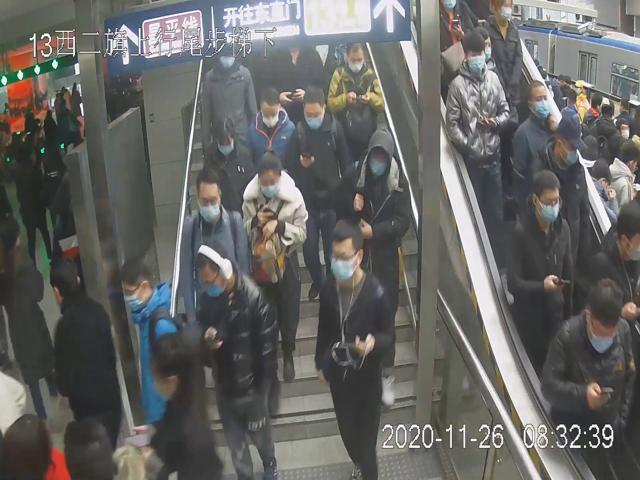person: (336, 126, 412, 410), (314, 216, 395, 480), (194, 238, 281, 479), (443, 31, 514, 306), (240, 149, 307, 385), (504, 167, 574, 365), (293, 81, 353, 299), (177, 167, 251, 330), (325, 38, 387, 173), (241, 84, 301, 197), (508, 77, 562, 178), (201, 115, 254, 214)
